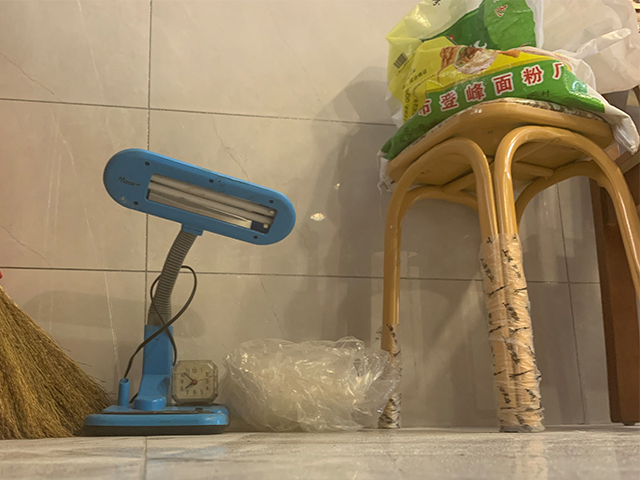stool: (378, 96, 640, 434)
